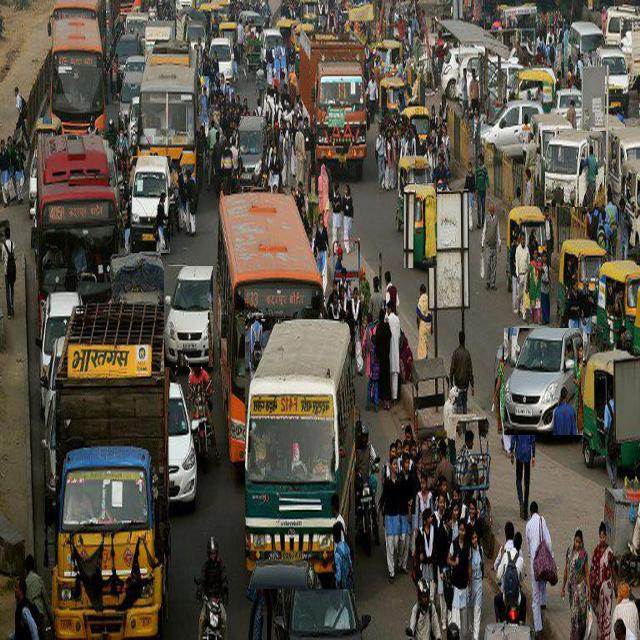autorickshaw: (556, 238, 606, 331), (596, 260, 640, 346), (405, 183, 437, 268)
bus: (245, 319, 355, 589), (215, 193, 324, 464), (32, 133, 119, 315), (139, 40, 196, 174), (50, 17, 105, 133)
car: (505, 328, 583, 435), (165, 266, 213, 367), (130, 157, 170, 253), (480, 100, 542, 157), (239, 117, 267, 187)
motorcycle: (195, 538, 229, 640)
truck: (51, 302, 170, 638), (299, 31, 366, 175), (545, 131, 605, 207)
